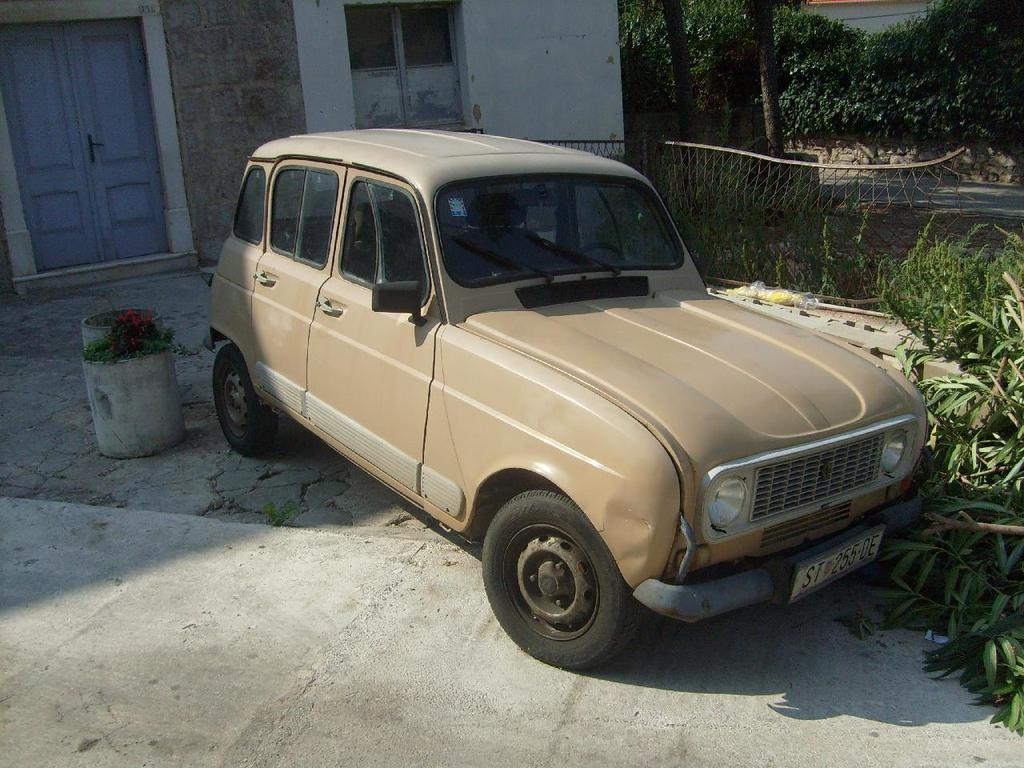Car: (189, 135, 900, 682)
